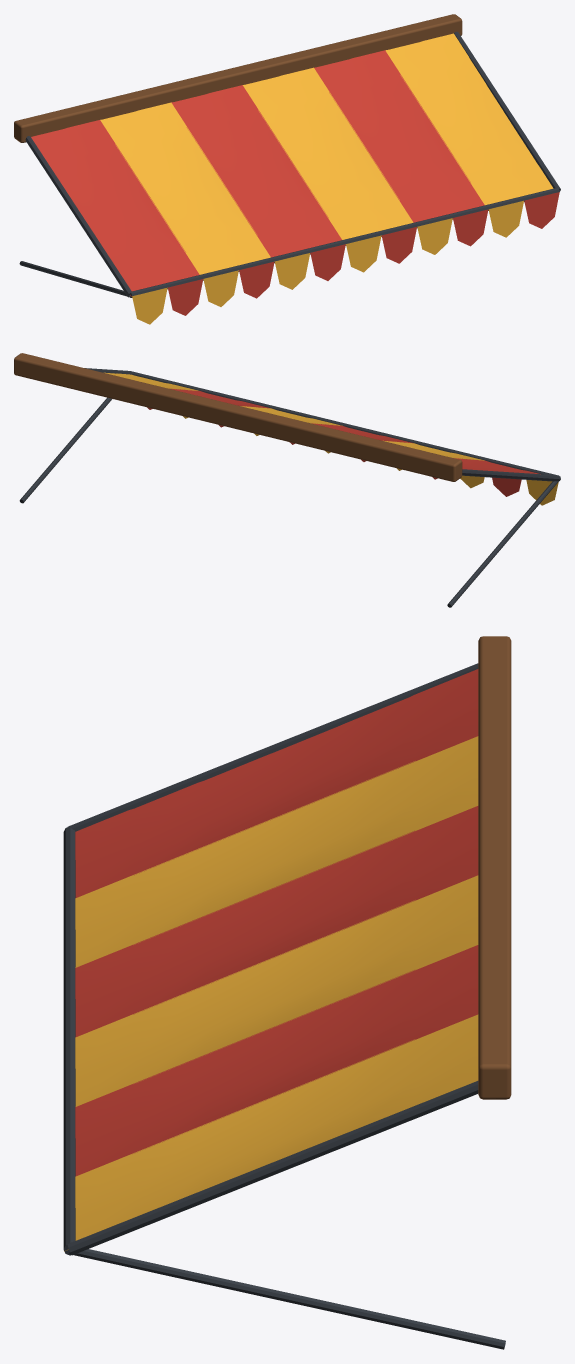
The model's file is mk_awning_crimson.glb.
3 views of the same model, one above another, from view 1: azimuth 30°, elevation 25°; view 2: azimuth 150°, elevation 25°; view 3: azimuth 270°, elevation 25° (orthographic). The views are drawn at different scales.
Parts seen in each view (by area): view 1: mk_awning_crimson_body; view 2: mk_awning_crimson_body; view 3: mk_awning_crimson_body.
Boxes of the visible parts, x1=… form: mk_awning_crimson_body: x1=14, y1=14, x2=560, y2=324; mk_awning_crimson_body: x1=14, y1=353, x2=560, y2=607; mk_awning_crimson_body: x1=63, y1=636, x2=511, y2=1349.
Size of the model in its own units: 3.1 by 0.9746 by 1.36.
